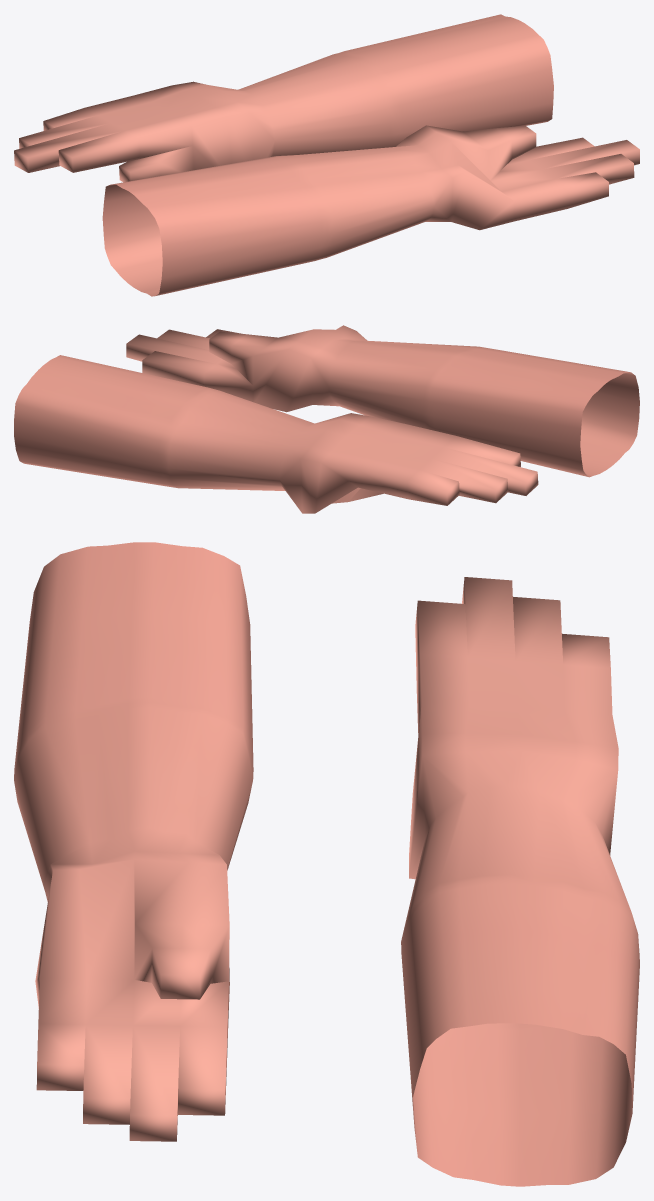
File: 僅限手.fbx
3 views of the same model, one above another, from view 1: azimuth 30°, elevation 25°; view 2: azimuth 150°, elevation 25°; view 3: azimuth 270°, elevation 25° (orthographic). The views are drawn at different scales.
Visible parts, largest first — view 1: 身體; view 2: 身體; view 3: 身體.
Part boxes in pixels (x1,y1,x2,y2): 身體: (14,14,639,296); 身體: (14,325,639,513); 身體: (14,542,639,1186).
Bounding box in the file's own units: 134 × 78.33 × 29.42.
Materials: 1 (1 with a texture image).
